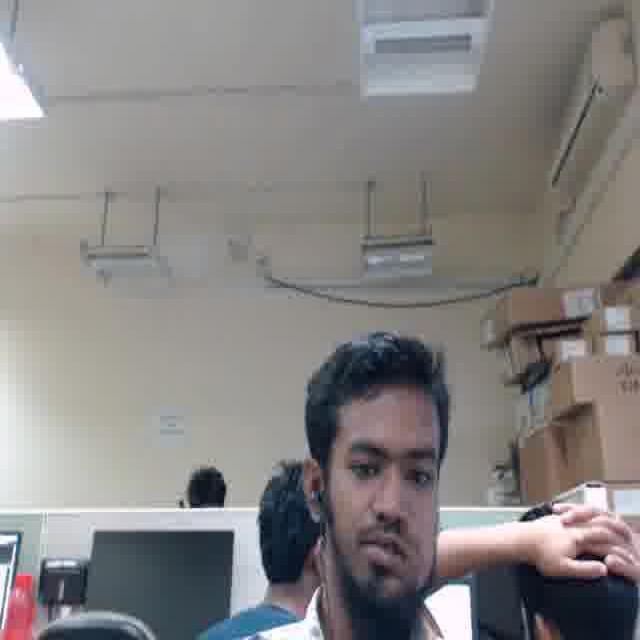Engaged: (328, 396, 445, 597)
